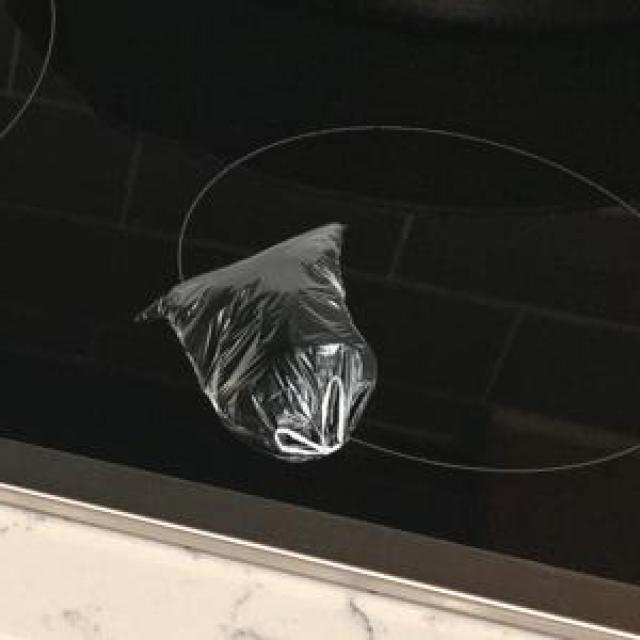Trashbag: (129, 220, 383, 466)
